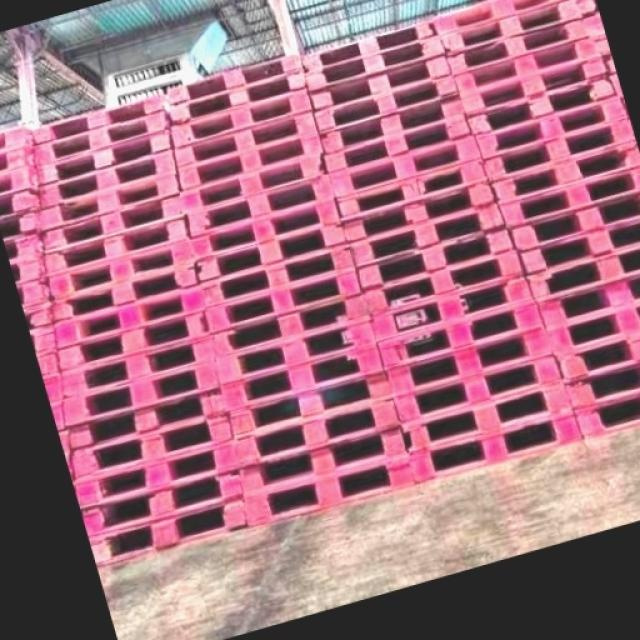non-igps: (397, 375, 577, 462), (403, 407, 588, 489), (240, 448, 419, 532), (389, 349, 572, 431), (65, 405, 241, 490), (381, 321, 558, 405), (235, 421, 412, 504), (57, 351, 227, 436), (68, 435, 248, 515), (216, 337, 391, 419), (76, 462, 250, 544), (223, 366, 400, 446), (374, 295, 548, 376), (366, 268, 540, 348), (85, 490, 256, 571), (230, 396, 406, 473), (212, 311, 380, 391), (359, 244, 531, 322), (64, 381, 235, 459), (353, 220, 520, 298), (55, 328, 224, 404), (337, 174, 504, 250), (208, 287, 377, 362), (50, 276, 212, 354), (202, 264, 368, 340), (330, 151, 496, 227), (41, 230, 204, 307), (346, 196, 510, 271), (52, 306, 216, 378), (478, 115, 638, 188), (472, 90, 634, 162), (325, 132, 488, 203), (38, 208, 194, 282), (183, 168, 341, 241), (188, 193, 346, 265), (320, 106, 478, 178), (198, 240, 360, 310), (317, 86, 474, 158), (456, 49, 614, 120), (462, 70, 622, 140), (47, 254, 204, 325), (192, 217, 350, 287), (38, 185, 191, 257), (34, 168, 190, 238), (484, 138, 639, 208), (450, 33, 608, 101), (34, 142, 183, 214), (178, 148, 330, 218), (310, 68, 466, 136), (167, 84, 317, 154), (174, 127, 329, 194), (301, 29, 451, 98), (163, 40, 308, 111), (495, 163, 639, 234), (171, 107, 325, 173), (311, 72, 465, 138), (31, 123, 179, 191), (26, 106, 178, 172), (443, 15, 595, 79), (305, 51, 457, 114), (168, 63, 310, 129), (503, 188, 639, 256), (435, 0, 588, 60), (298, 17, 440, 78), (27, 90, 172, 148), (517, 217, 639, 282), (524, 242, 639, 309), (530, 268, 638, 334), (541, 297, 639, 362), (429, 0, 569, 41), (550, 325, 639, 389), (558, 355, 639, 418), (571, 382, 639, 444), (0, 202, 53, 243), (9, 272, 58, 315), (1, 224, 52, 264), (0, 160, 45, 202), (2, 249, 54, 285), (0, 184, 46, 223), (19, 301, 64, 336), (0, 119, 36, 159), (26, 322, 63, 360), (0, 142, 40, 176), (34, 346, 68, 381), (40, 370, 68, 406), (46, 398, 70, 436)
